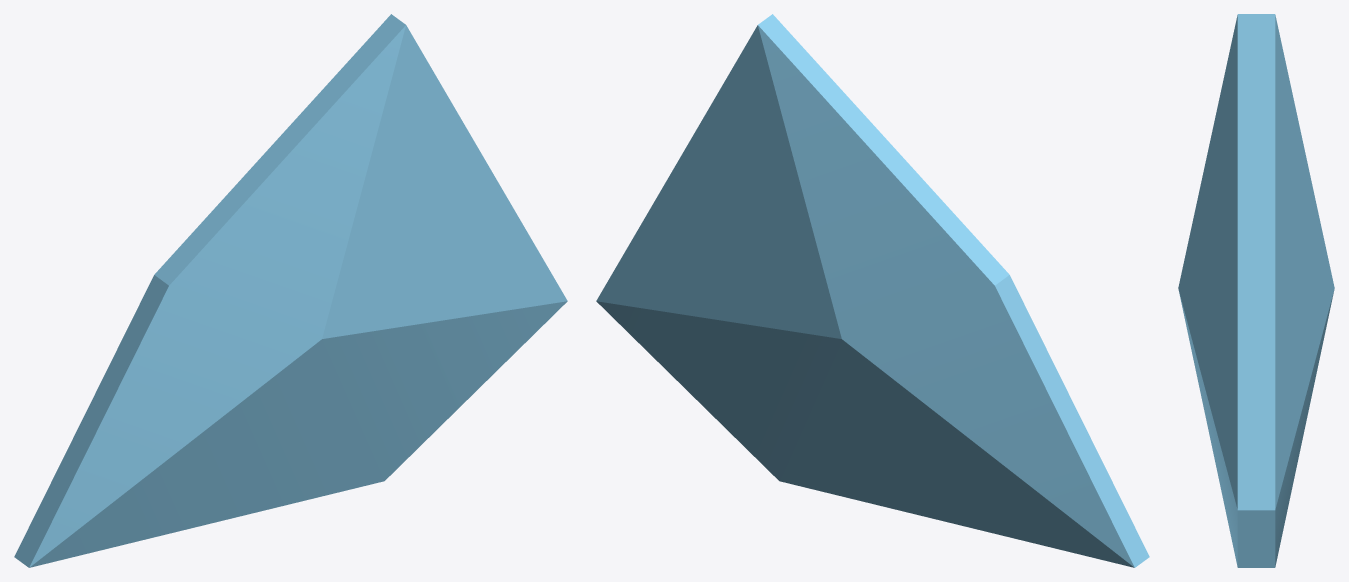
The model's file is Esquirla.fbx.
3 views of the same model, side by side, from view 1: azimuth 30°, elevation 25°; view 2: azimuth 150°, elevation 25°; view 3: azimuth 270°, elevation 25° (orthographic). The views are drawn at different scales.
Parts seen in each view (by area): view 1: Esquirla; view 2: Esquirla; view 3: Esquirla.
Boxes of the visible parts, left/top/right/bottom form: Esquirla: left=14, top=14, right=567, bottom=567; Esquirla: left=596, top=14, right=1149, bottom=567; Esquirla: left=1178, top=14, right=1334, bottom=567.
Bounding box in the file's own units: 0.5 × 0.4 × 0.1.
Materials: 1 (1 with a texture image).
